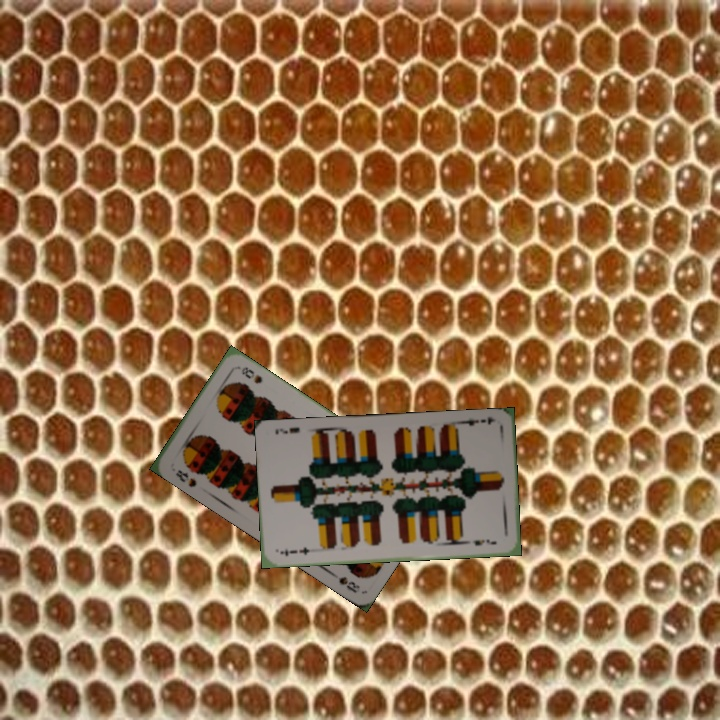E7: (458, 413, 498, 428), (276, 543, 312, 559)
S8: (171, 465, 199, 490)
